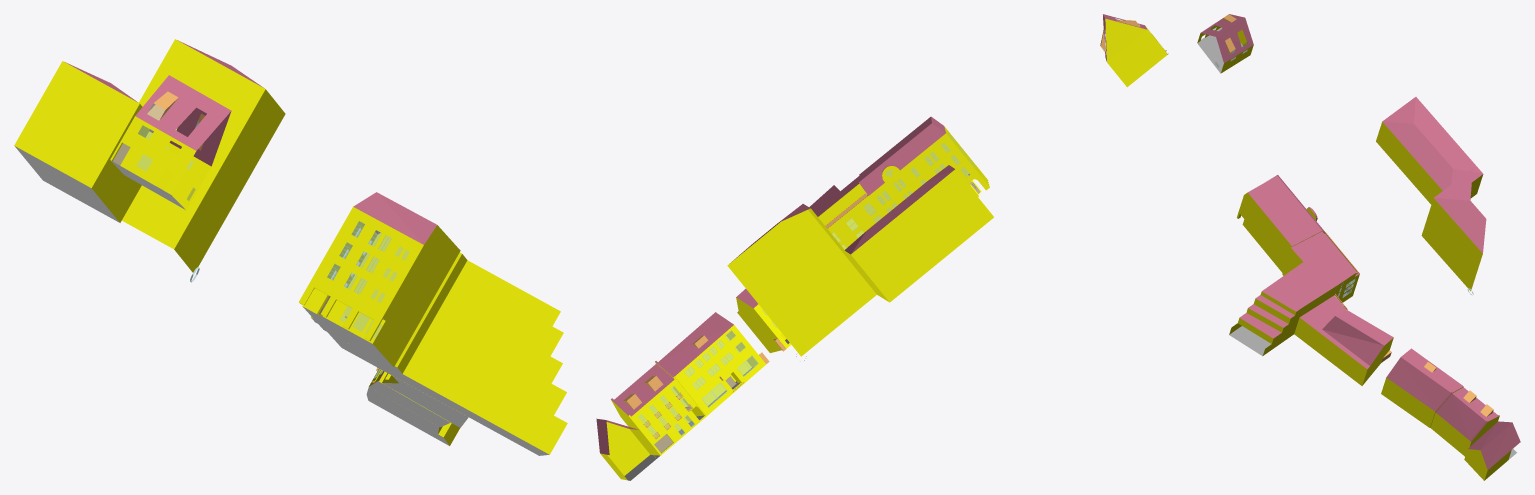
3 views of the same model, side by side, from view 1: azimuth 30°, elevation 25°; view 2: azimuth 150°, elevation 25°; view 3: azimuth 270°, elevation 25° (orthographic). The views are drawn at different scales.
Parts seen in each view (by area): view 1: mesh; view 2: mesh; view 3: mesh.
Boxes of the visible parts, bbox=[...] form: mesh: bbox=[14, 39, 567, 455]; mesh: bbox=[596, 14, 1168, 480]; mesh: bbox=[1197, 14, 1520, 480].
Bounding box in the file's own units: 86.91 × 87.35 × 76.12.
